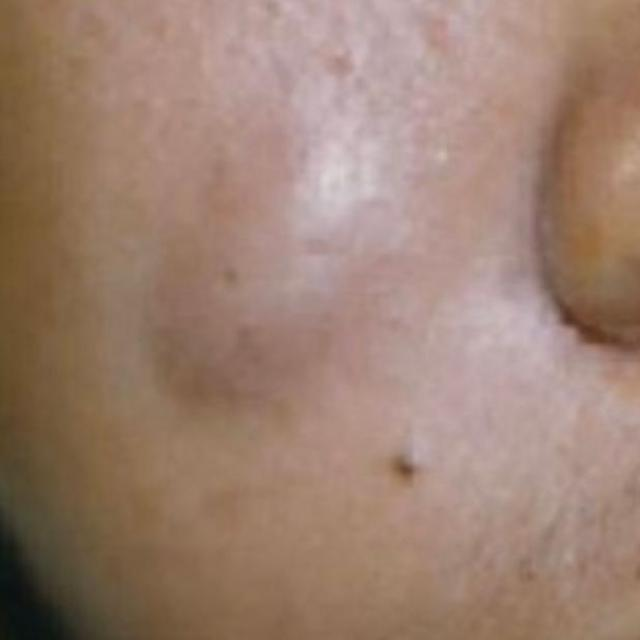nodule: (108, 43, 437, 485)
